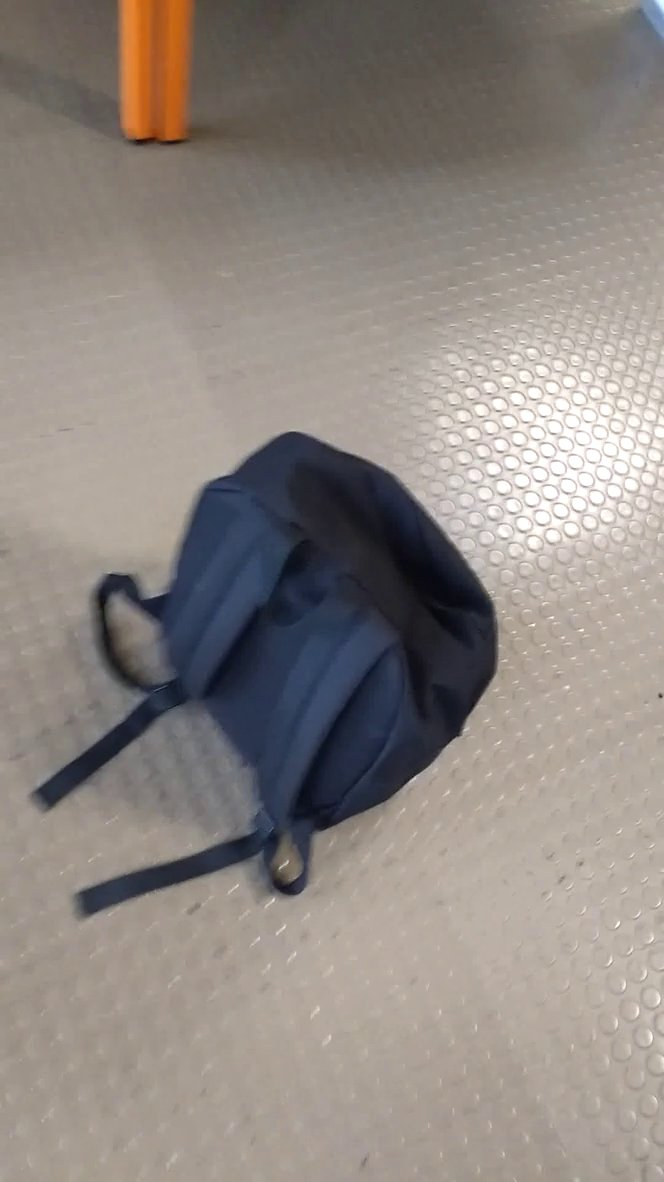bag: (25, 414, 506, 940)
